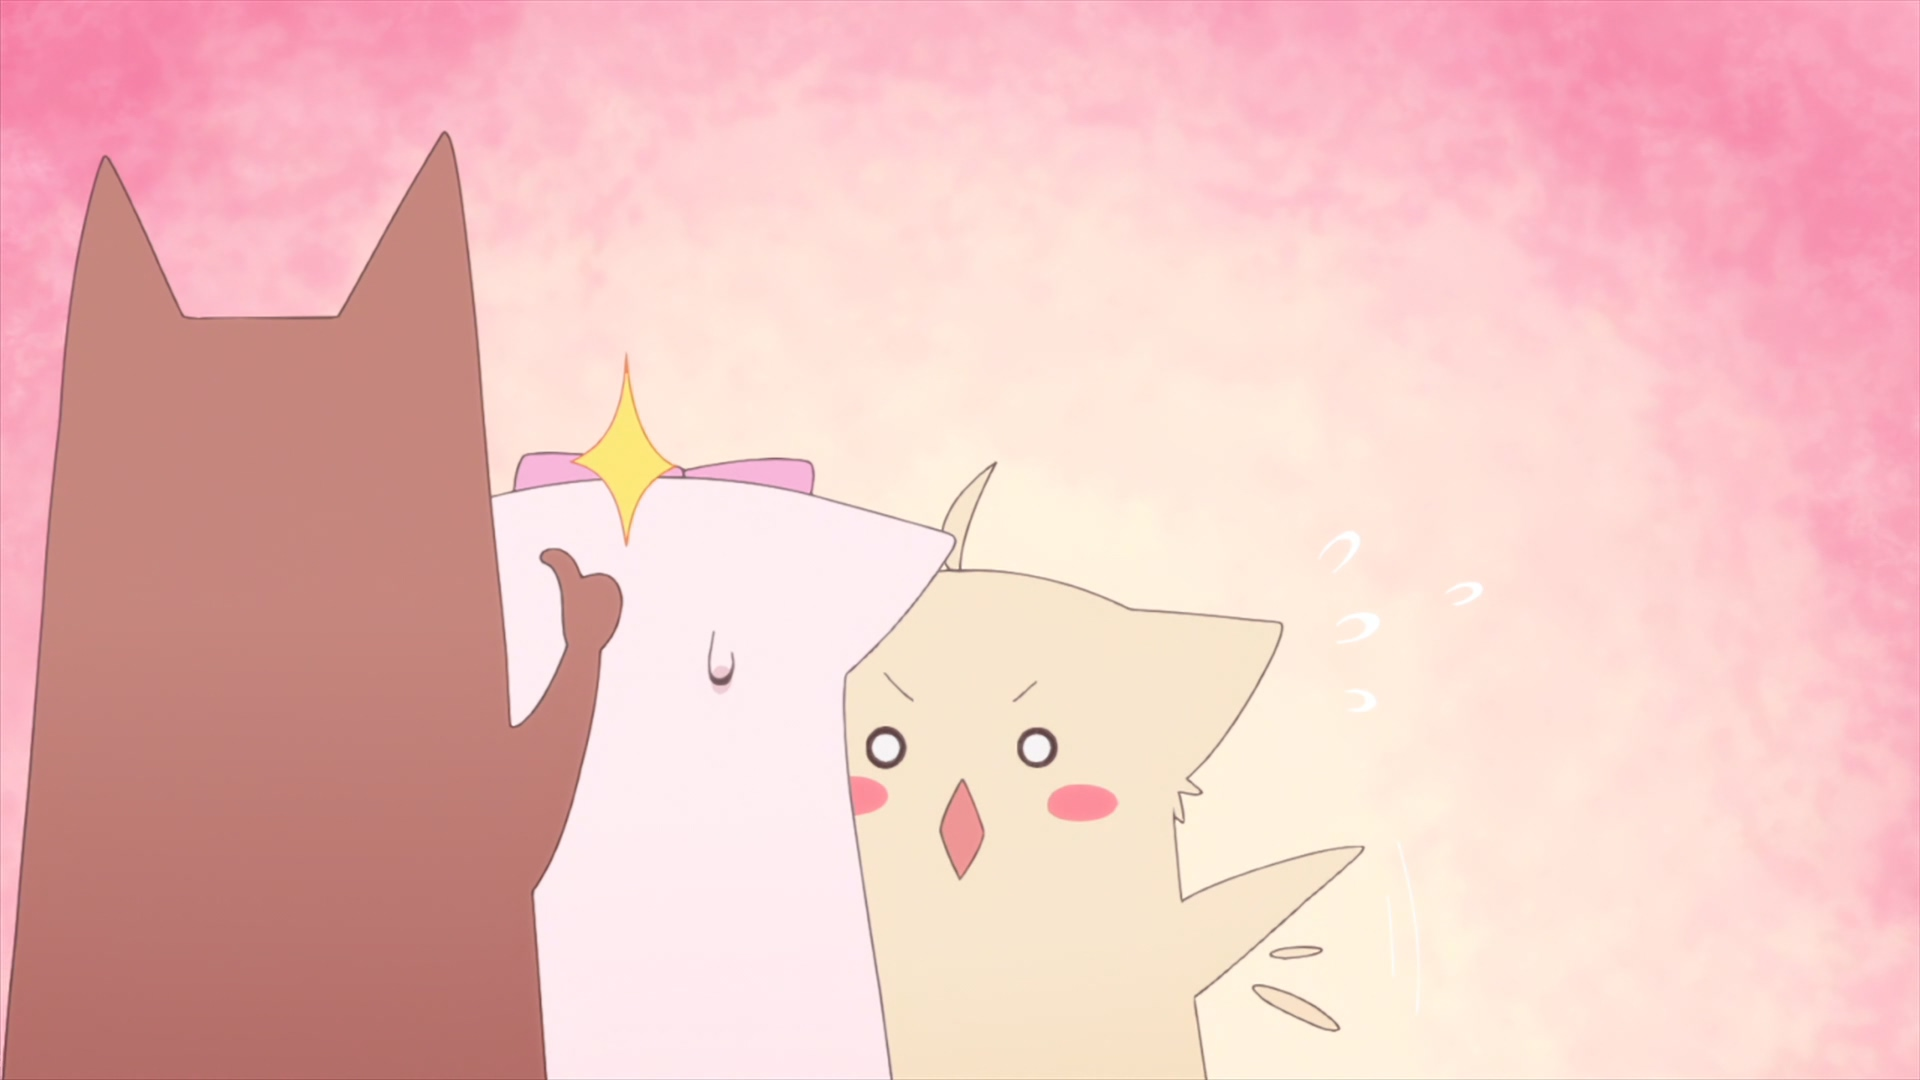枣: (1, 132, 626, 1080)
柚: (843, 460, 1365, 1080)
莲: (491, 454, 953, 1080)
